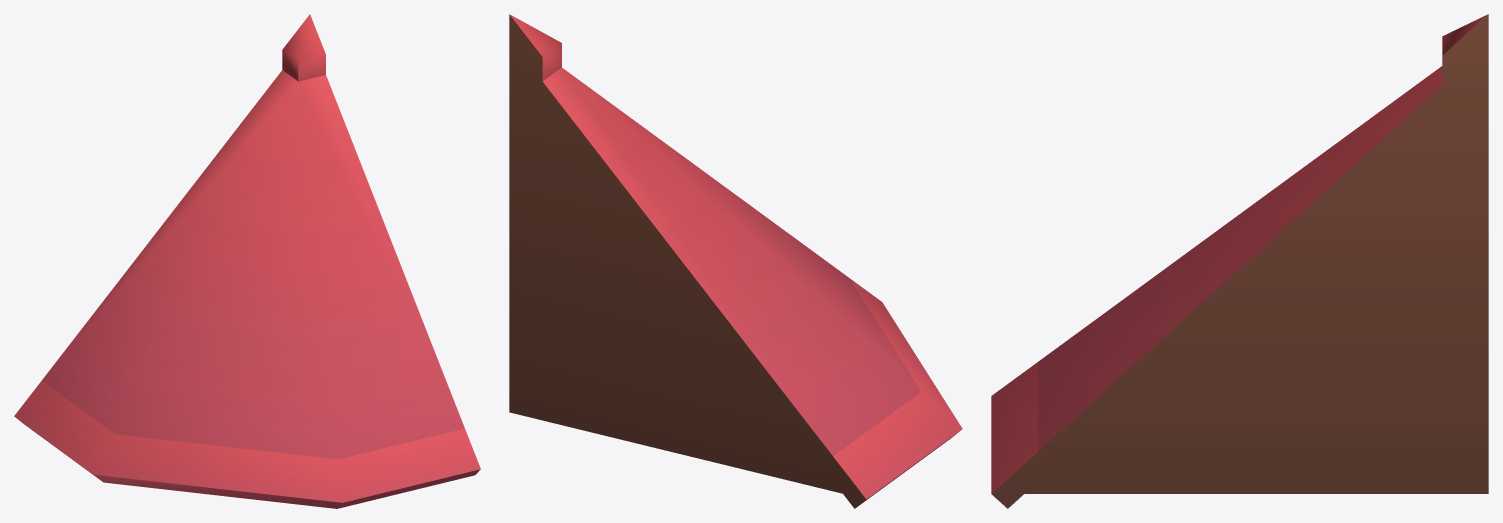
File: roof-high-corner-round.glb
3 renders of one model, left to right at view 1: azimuth 30°, elevation 25°; view 2: azimuth 150°, elevation 25°; view 3: azimuth 270°, elevation 25°, orthographic. The views are drawn at different scales.
Visible parts, largest first — view 1: roof-high-corner-round; view 2: roof-high-corner-round; view 3: roof-high-corner-round.
Boxes of the visible parts, left/top/right/bottom form: roof-high-corner-round: left=14, top=14, right=480, bottom=508; roof-high-corner-round: left=509, top=14, right=962, bottom=508; roof-high-corner-round: left=991, top=14, right=1488, bottom=508.
Size of the model in its own units: 1.07 by 1.18 by 1.07.
Materials: 1 (1 with a texture image).
